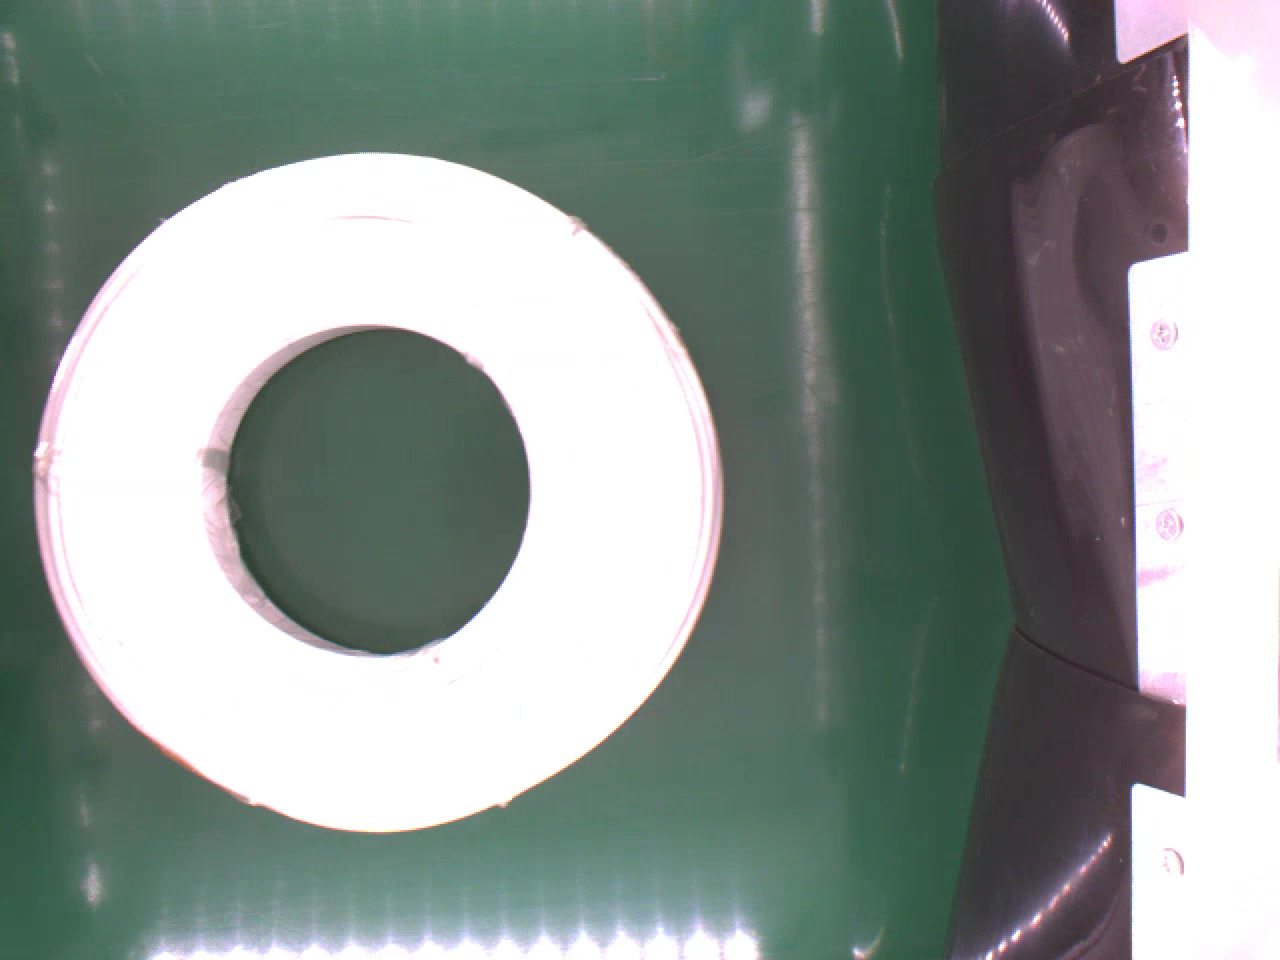white: (28, 151, 728, 839)
